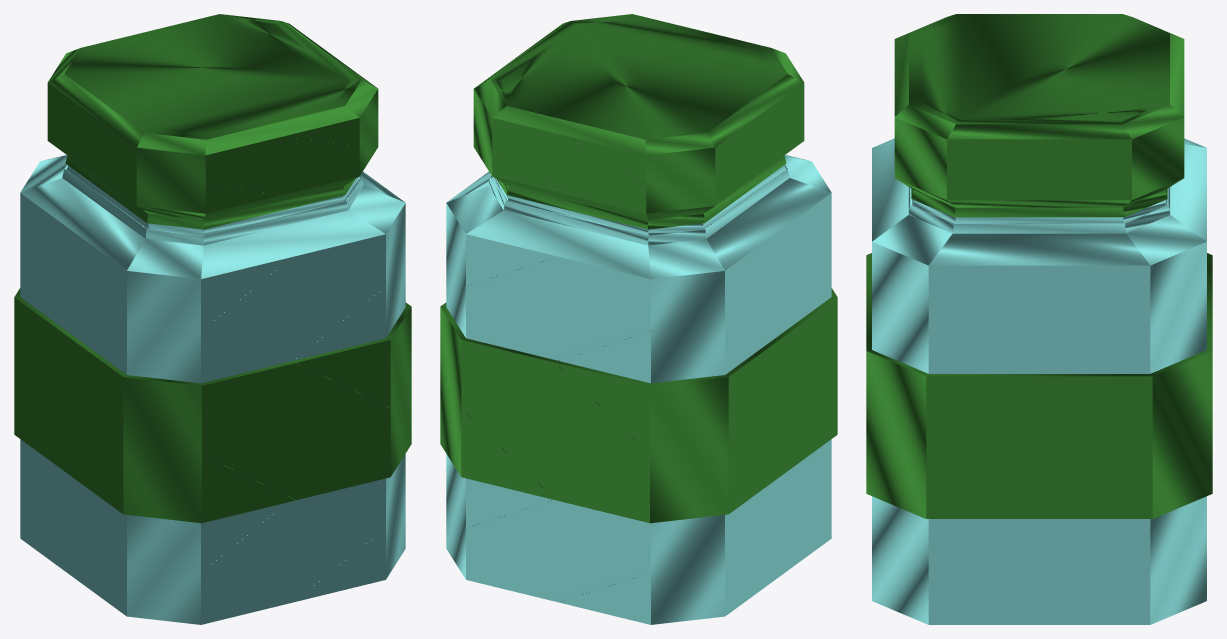
File: Bottle 1.fbx
3 renders of one model, left to right at view 1: azimuth 30°, elevation 25°; view 2: azimuth 150°, elevation 25°; view 3: azimuth 270°, elevation 25°, orthographic. The views are drawn at different scales.
Parts seen in each view (by area): view 1: Node 0; view 2: Node 0; view 3: Node 0.
Part boxes in pixels (x1=…): Node 0: x1=14, y1=14, x2=411, y2=624; Node 0: x1=440, y1=14, x2=837, y2=624; Node 0: x1=866, y1=14, x2=1212, y2=624.
Size of the model in its own units: 0.138 by 0.2133 by 0.138.
